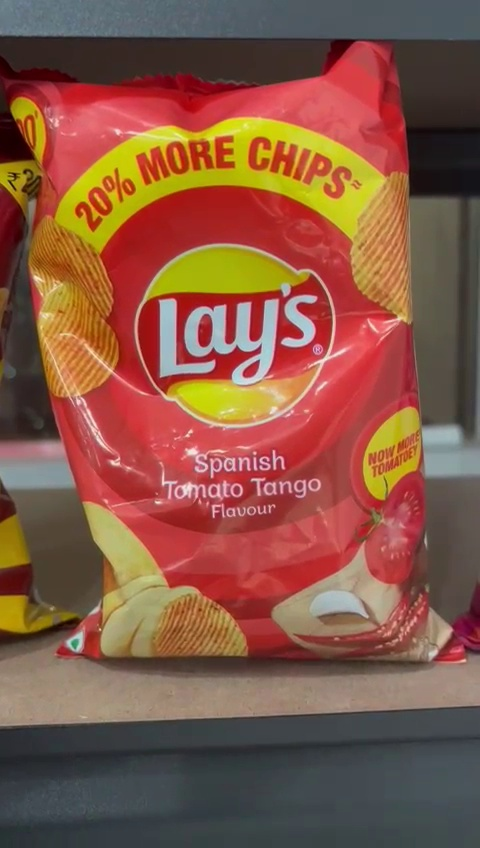Lays: (15, 84, 440, 666)
